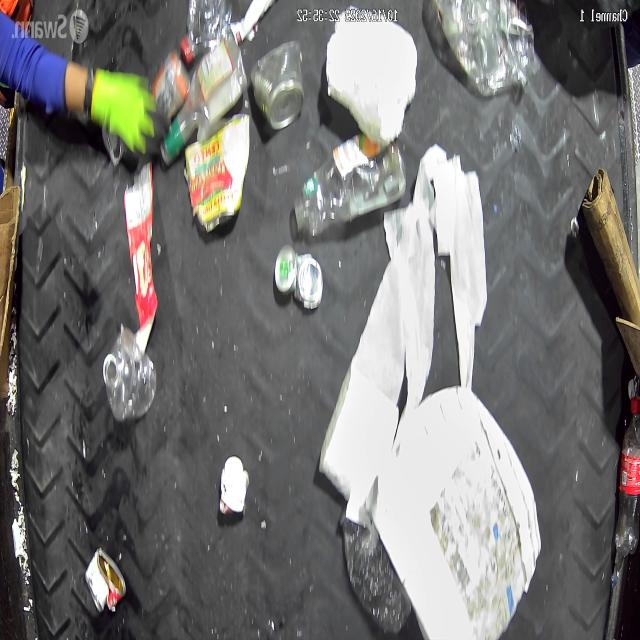can: (184, 113, 250, 234), (248, 40, 302, 132), (276, 246, 324, 312), (84, 546, 126, 614)
plastic_bottle: (294, 133, 406, 240), (158, 39, 243, 161), (340, 491, 410, 635), (436, 0, 534, 97), (101, 328, 156, 424), (615, 400, 639, 560)
